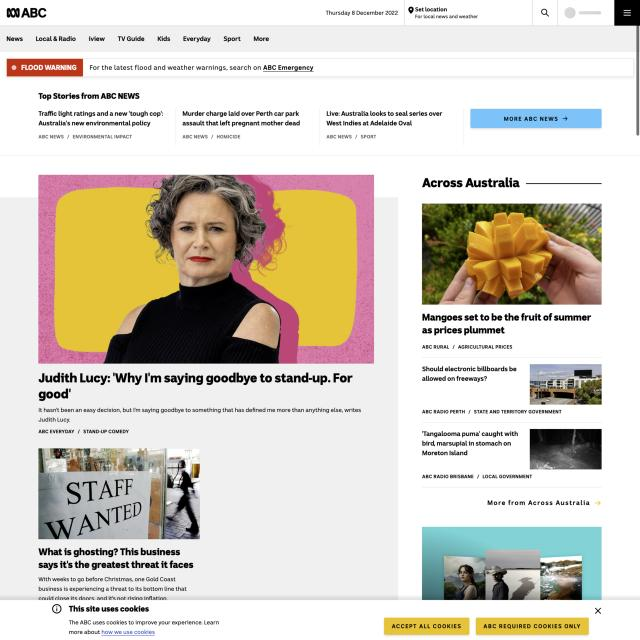logo: (2, 4, 50, 20)
navigation: (3, 31, 276, 47), (619, 1, 637, 22)
